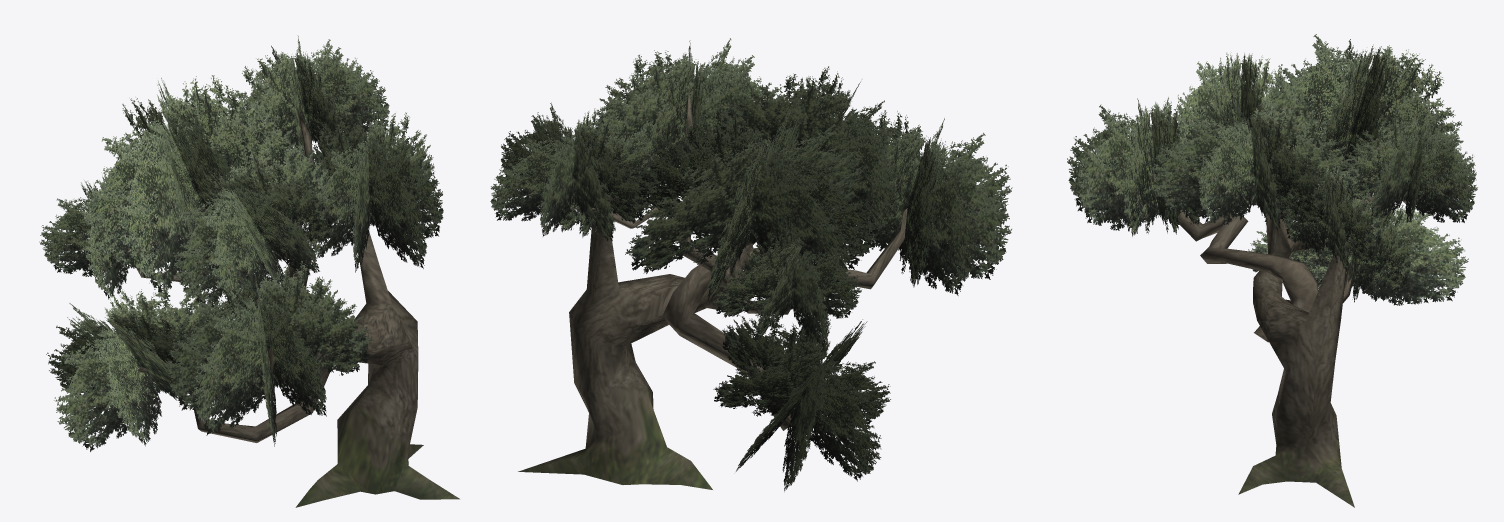
File: pine_01.fbx
3 renders of one model, left to right at view 1: azimuth 30°, elevation 25°; view 2: azimuth 150°, elevation 25°; view 3: azimuth 270°, elevation 25°, orthographic. The views are drawn at different scales.
Parts seen in each view (by area): view 1: polySurface791; view 2: polySurface791; view 3: polySurface791.
Boxes of the visible parts, x1=… form: polySurface791: x1=39, y1=35, x2=459, y2=507; polySurface791: x1=490, y1=38, x2=1012, y2=491; polySurface791: x1=1067, y1=34, x2=1477, y2=507.
Bounding box in the file's own units: 3.28 × 3.53 × 3.52.
